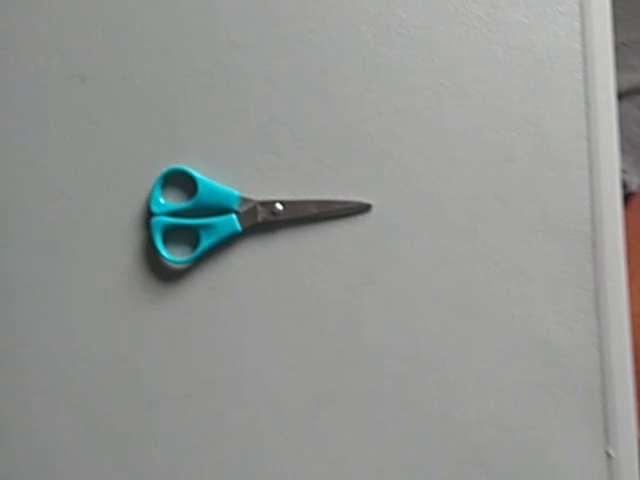Sizer: (138, 159, 388, 283)
